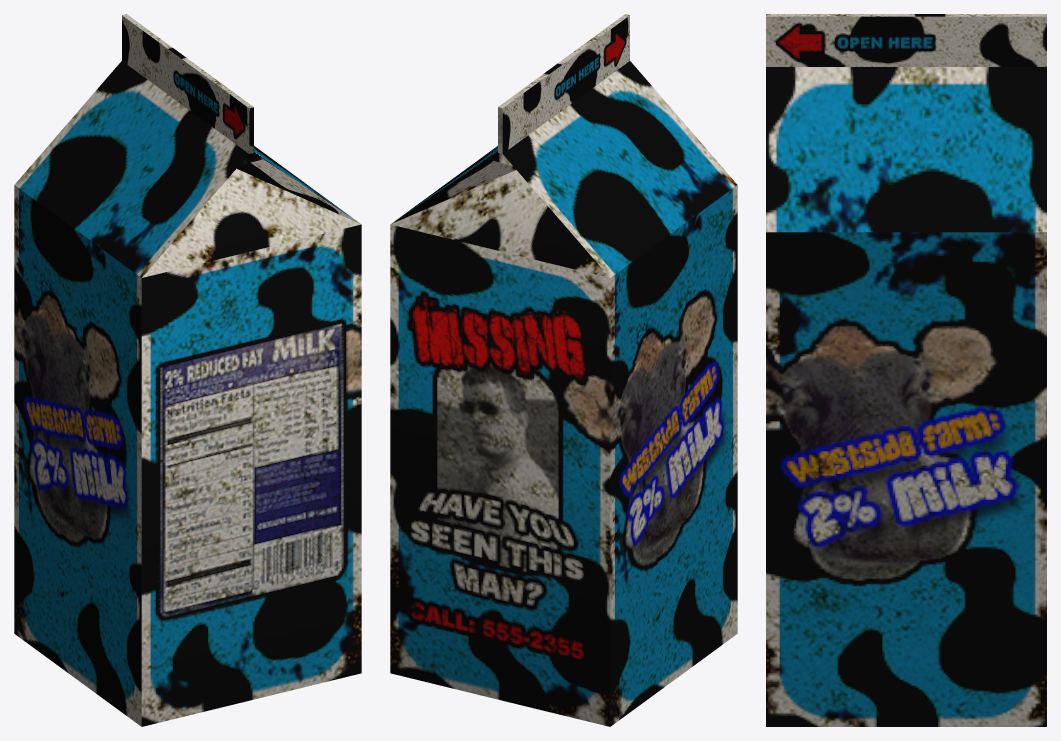
File: milk.fbx
3 renders of one model, left to right at view 1: azimuth 30°, elevation 25°; view 2: azimuth 150°, elevation 25°; view 3: azimuth 270°, elevation 25°, orthographic. The views are drawn at different scales.
Visible parts, largest first — view 1: milk; view 2: milk; view 3: milk.
Boxes of the visible parts, box(x1,y1,x2,y2) form: milk: box(14, 14, 361, 726); milk: box(390, 14, 737, 726); milk: box(766, 14, 1046, 726).
Size of the model in its own units: 0.1475 by 0.3797 by 0.148.
